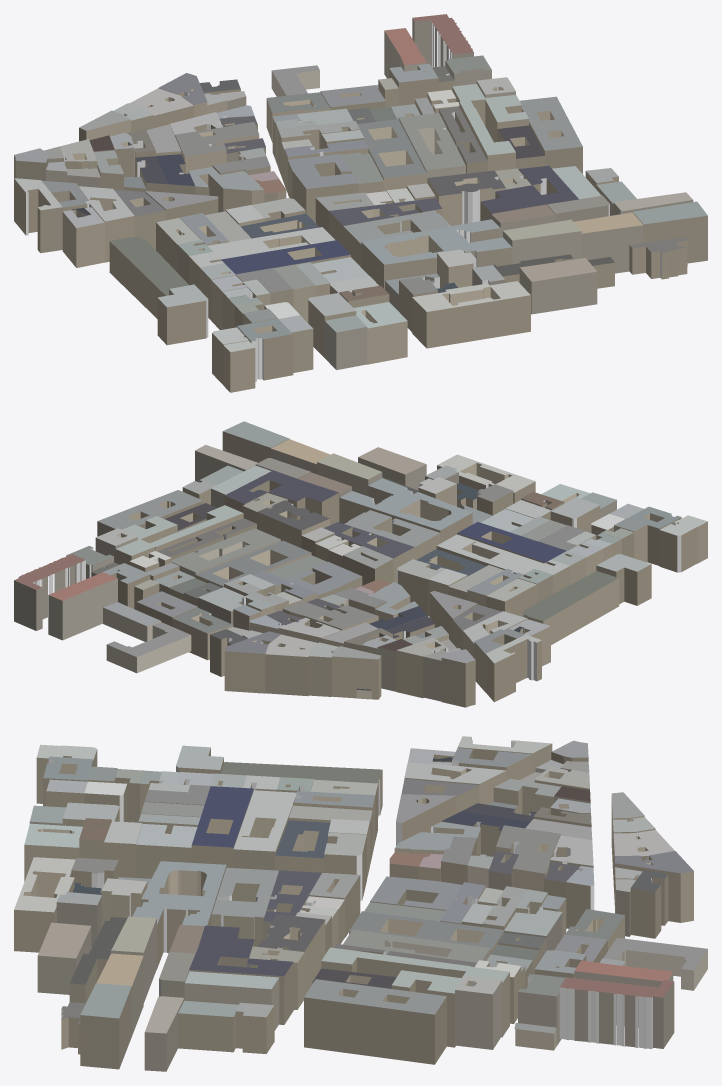
3 renders of one model, top to bottom at view 1: azimuth 30°, elevation 25°; view 2: azimuth 150°, elevation 25°; view 3: azimuth 270°, elevation 25°, orthographic. The views are drawn at different scales.
Parts seen in each view (by area): view 1: tuile; view 2: tuile; view 3: tuile.
Boxes of the visible parts, left/top/right/bottom form: tuile: left=14, top=14, right=707, bottom=392; tuile: left=14, top=421, right=707, bottom=707; tuile: left=14, top=736, right=707, bottom=1071.
Size of the model in its own units: 272 by 30.16 by 281.
